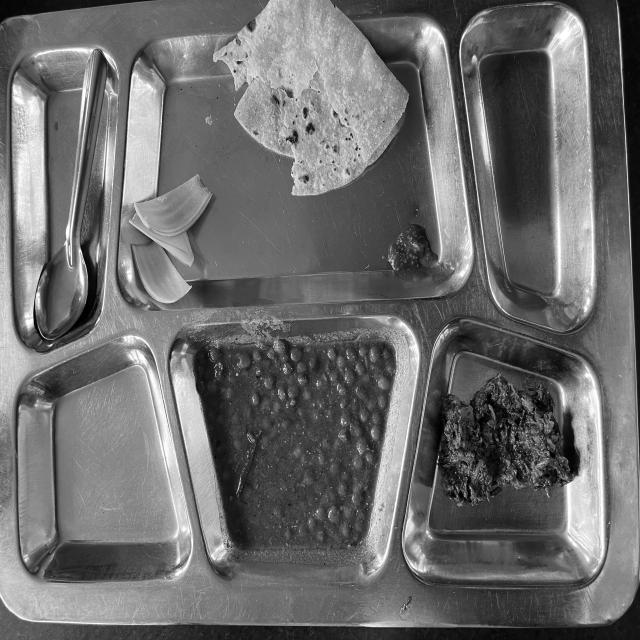50-Food-Left: (4, 32, 614, 614)
